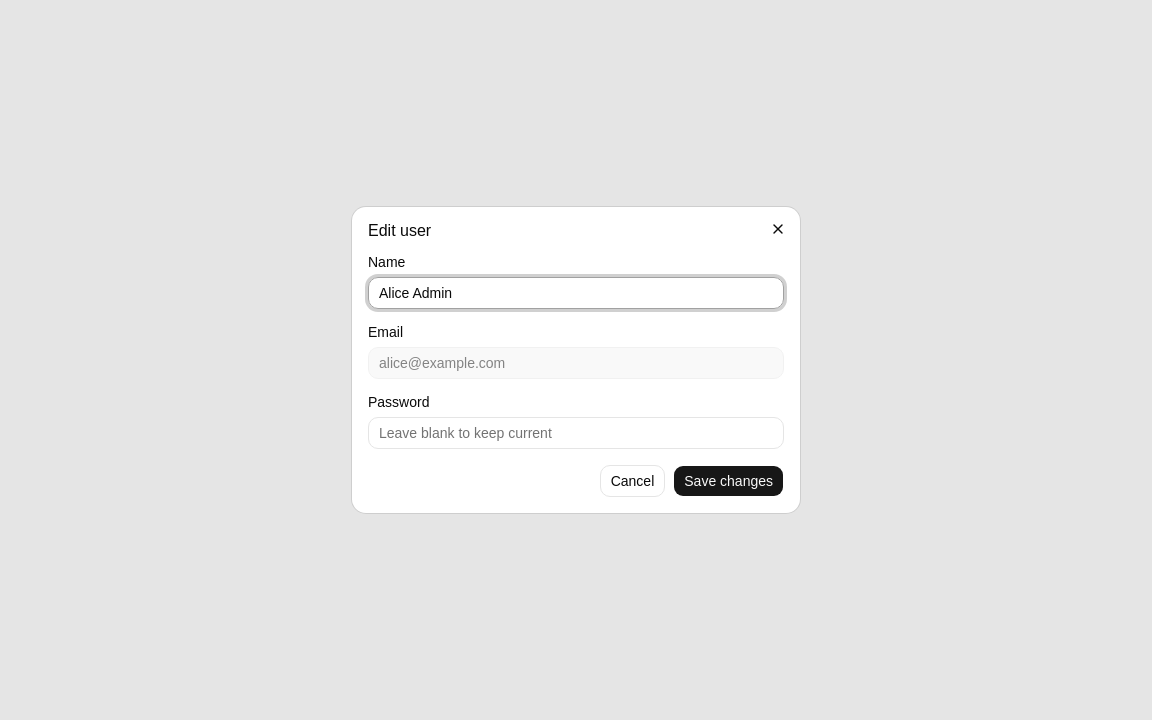
Test: EditUserDialog › form validation › shows error when name is too short (< 3 chars)
This screenshot has width=1152, height=720.
Replace the text in the field labelled "Name" with "Ab": (576, 293) [368,277,784,309]
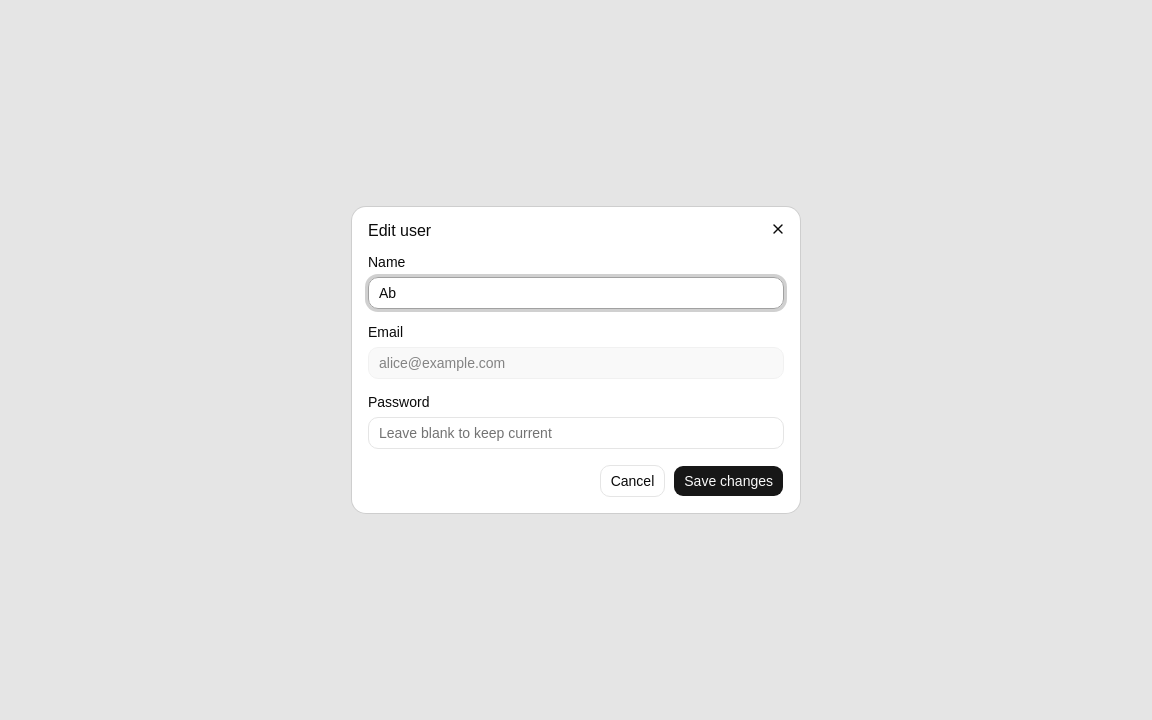
Submit the form with test id "edit-user-form", box [368,255,784,497]
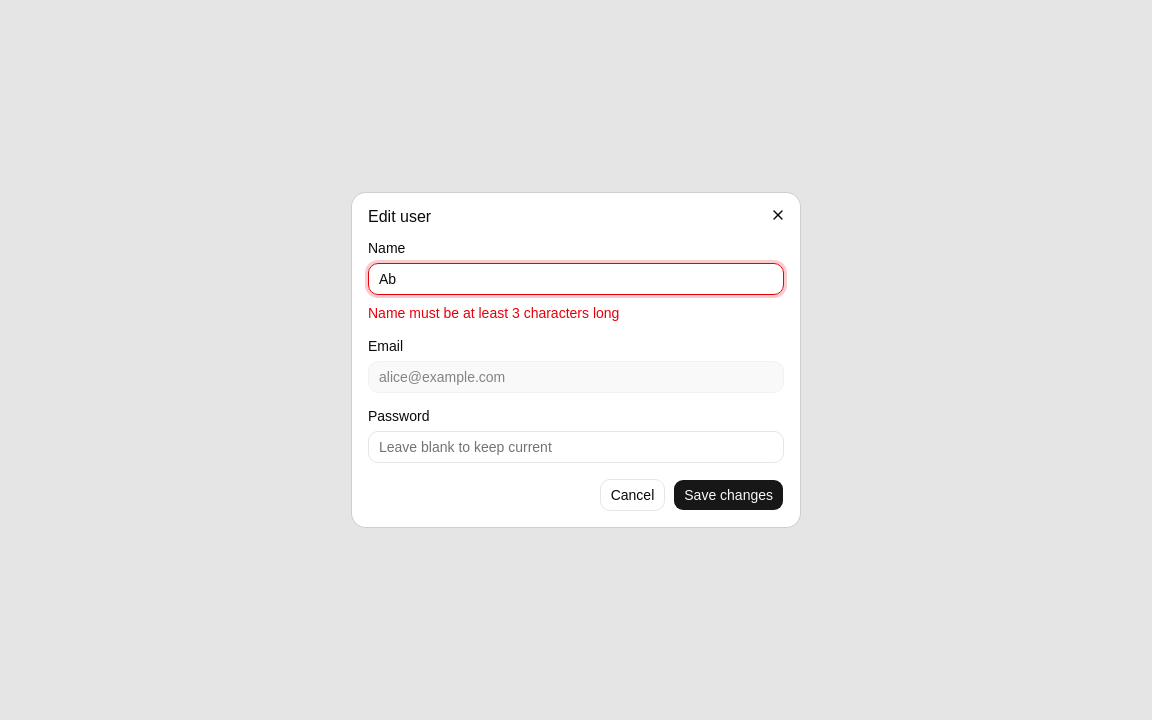
Check: the text "Name must be at least 3 characters long" is shown, box [368,305,619,321]
